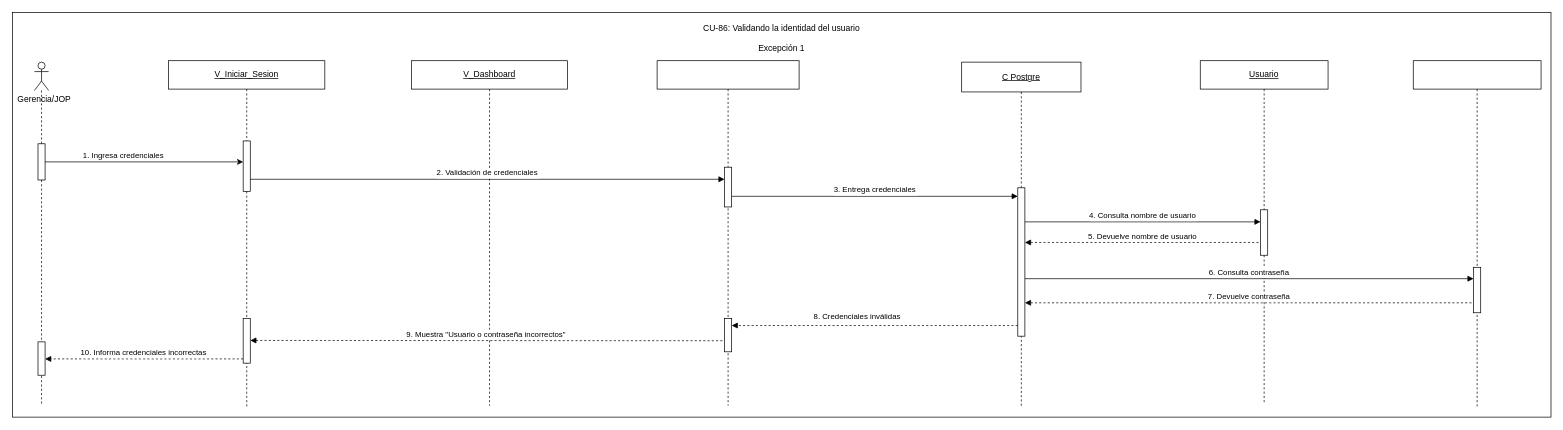
The diagram is 1563 pixels wide and 430 high, and some of its shapes have lost their labels. The shapes that lost their labels are listed below. From the top down, each one's centre as x and y in pixels, then its label:
At pixel 727 233: "C auth".
At pixel 1477 233: "Usuario_Contraseña".
